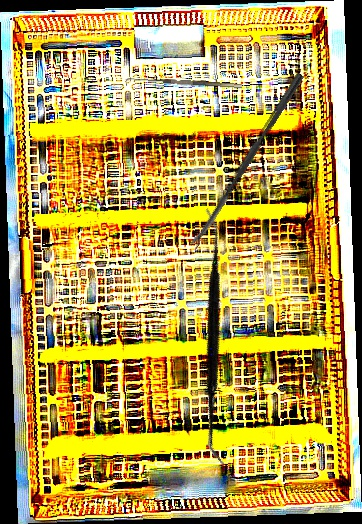Hook Surgical: (125, 75, 243, 95)
Spatula Surgical: (100, 207, 330, 467)
Surgical Spoon: (188, 72, 305, 249)
